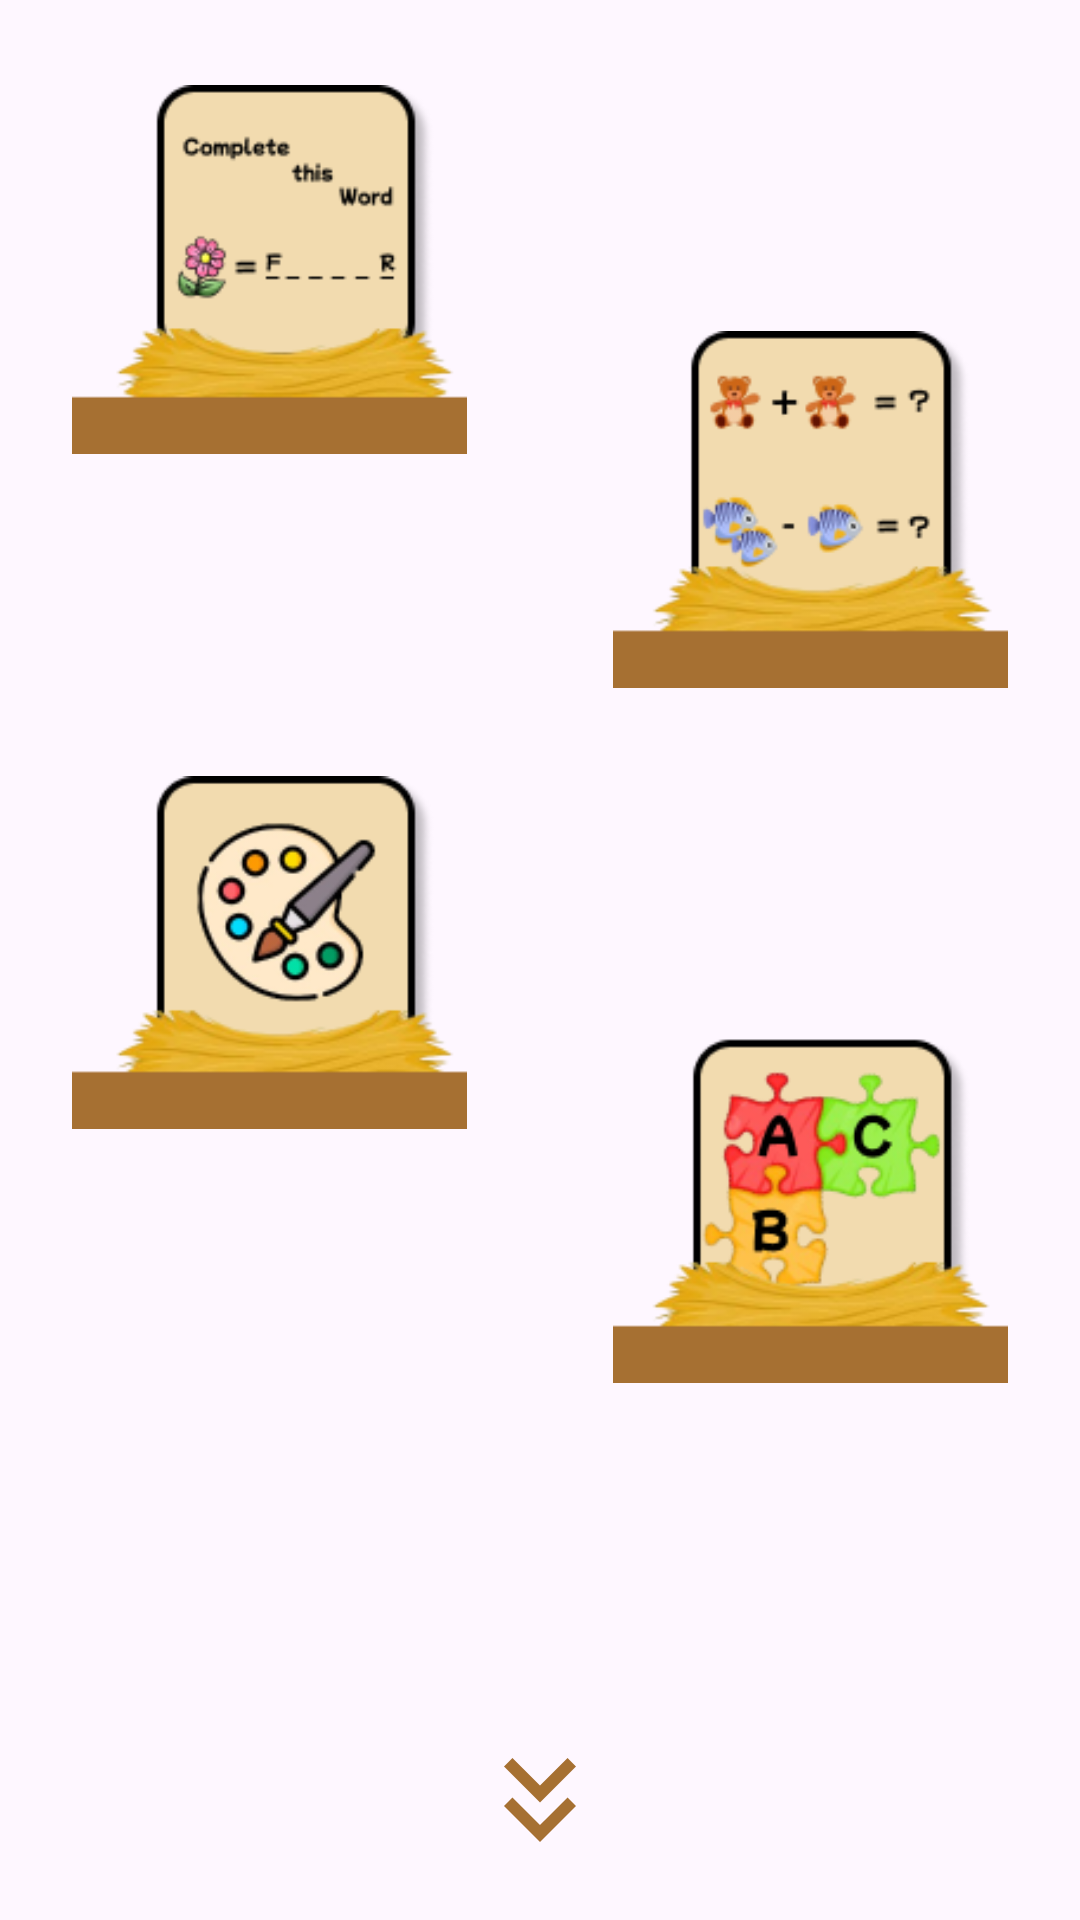

Named icons in this screenshot (1080×1920) and their bounding boxes, (x1, y1, x2, y2):
scroll down: (504, 1758, 576, 1842)
